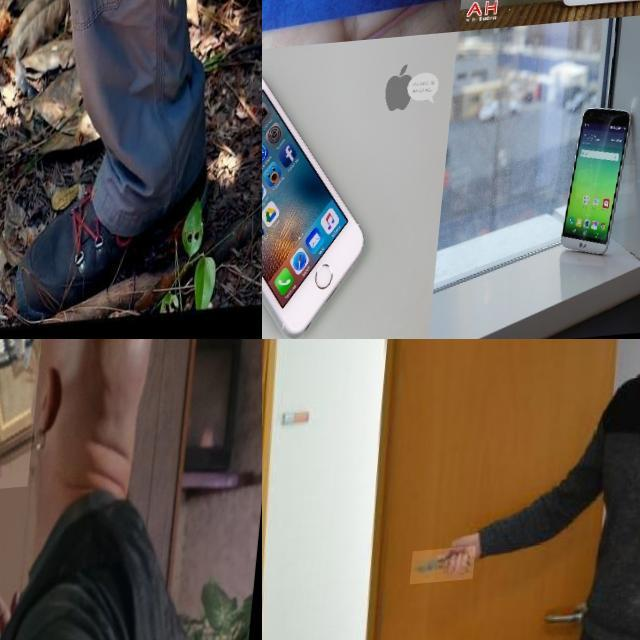-: (418, 554, 483, 592)
gun-knife-thesis - v11 Yolov5 augmented: (0, 339, 70, 502)
